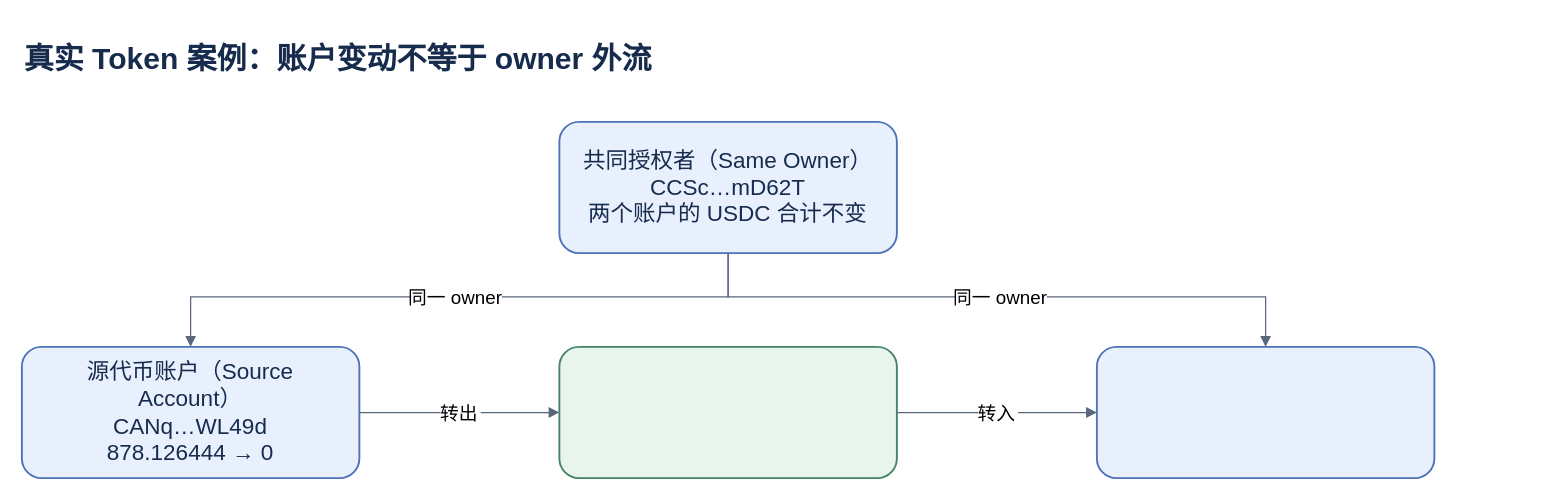
Some shapes in this 1544 by 500 pixel diagram are drawn without their labels. Here are the shapes that lost their labels. From the top down, the centre of each, then its label:
point 727,411: 代币转账（Token Transfer） 878126444 raw / decimals=6
point 1265,411: 目标代币账户（Destination） 9xmw…dWuXR 4001.829572 → 4879.956016
